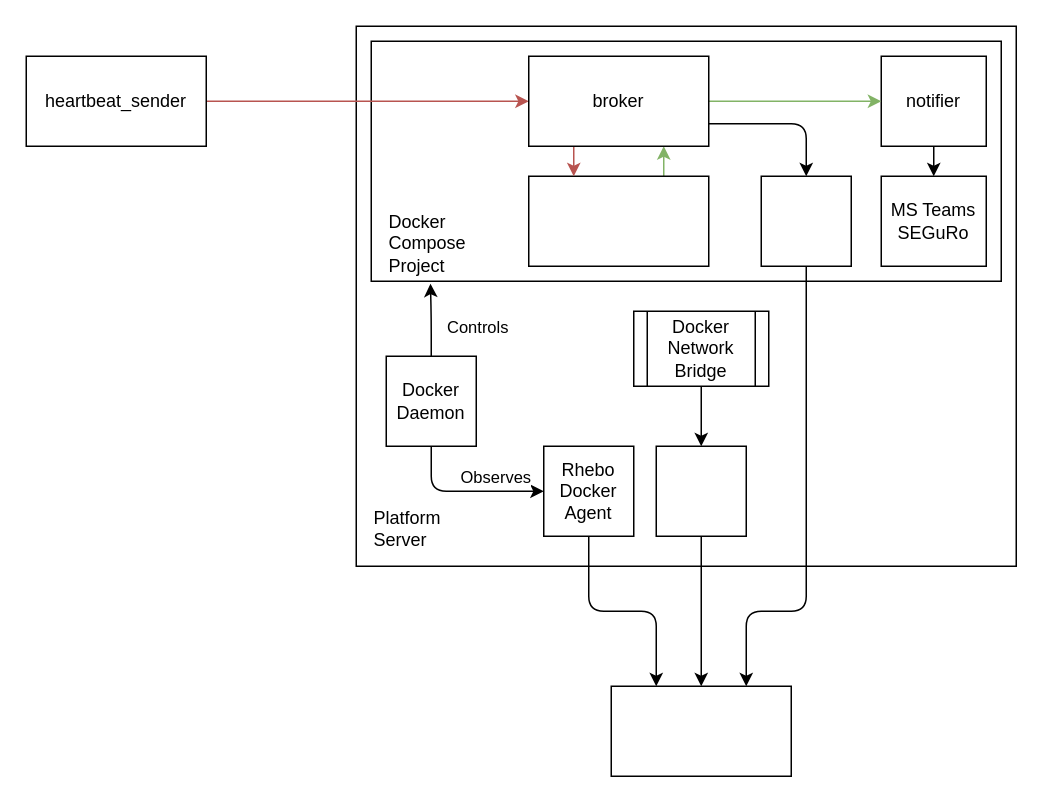
This 1043x803 diagram has some shape labels left out. Each missing label, with the centre of its shape:
heartbeat_monitor: the point at 618,220
PCap Capture: the point at 700,490
Rhebo Industrial Protector: the point at 700,730
Rhebo MQTT Agent: the point at 805,220
